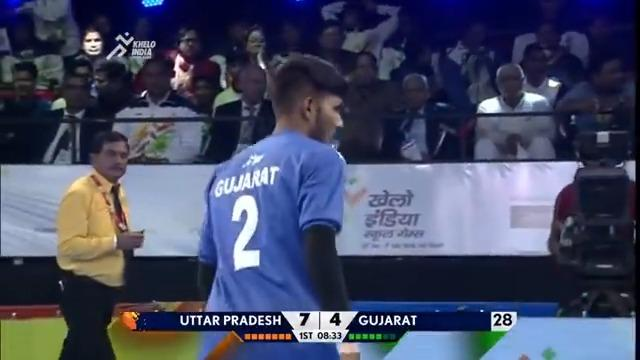Player: (194, 52, 361, 358), (54, 129, 145, 359)
referee: (546, 129, 636, 317)
